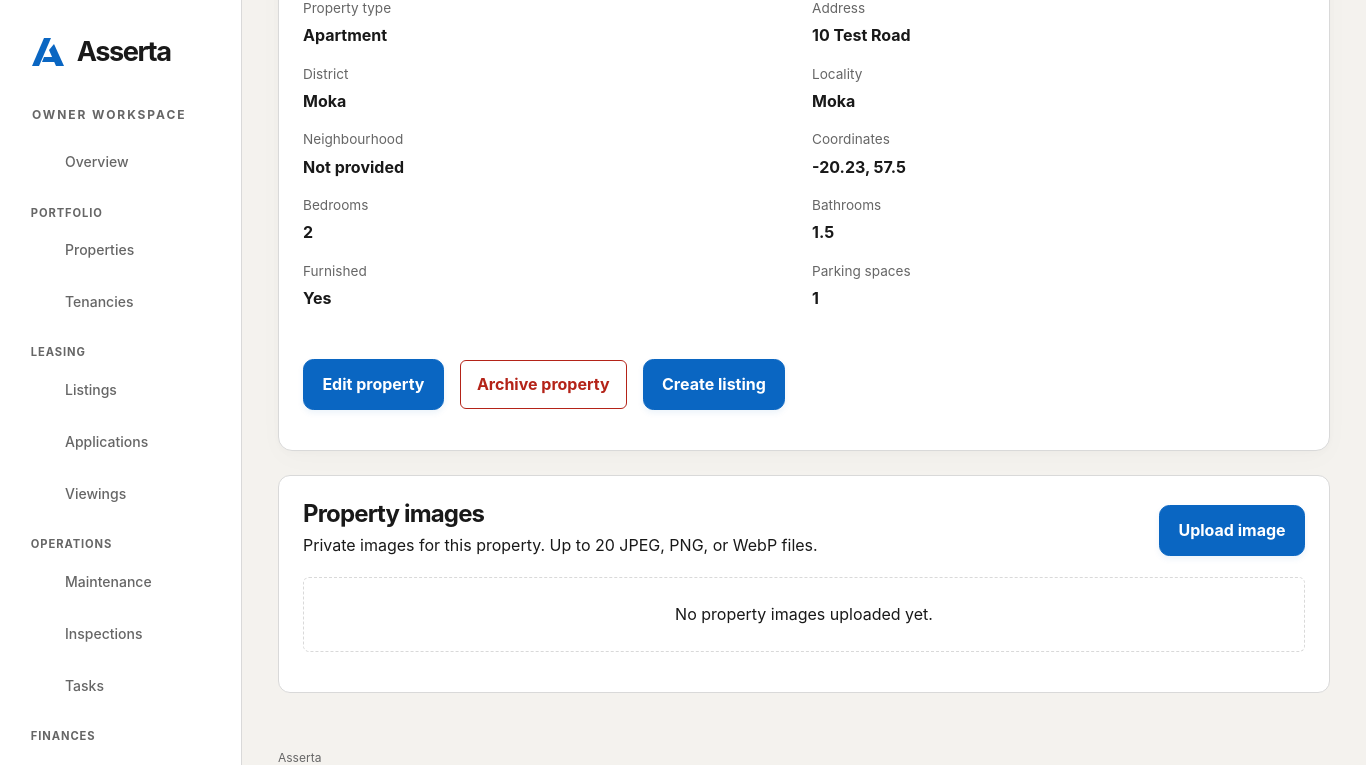
Test: property detail, edit, and archive › requires confirmation and hides edit actions after archiving
(page scrolled)
Click the button "Archive property".
click(543, 384)  # box [460, 360, 627, 409]
(page scrolled)
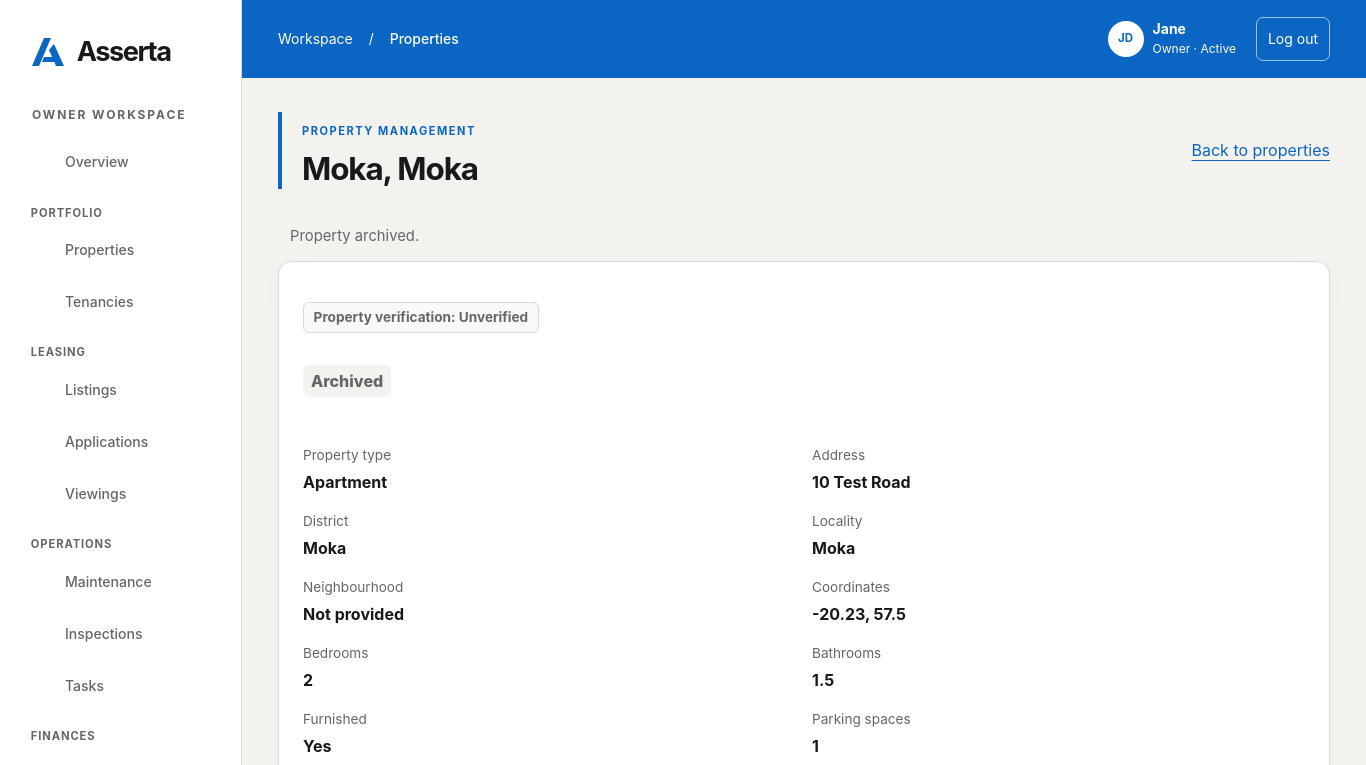
Result: the text "Archived" is shown at [303, 365, 391, 397]
Result: the button "Edit property" is gone
